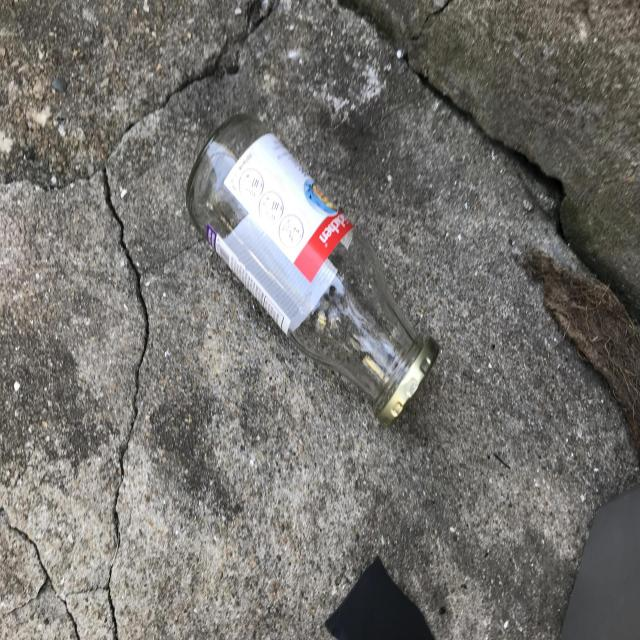glass: (186, 114, 438, 425)
